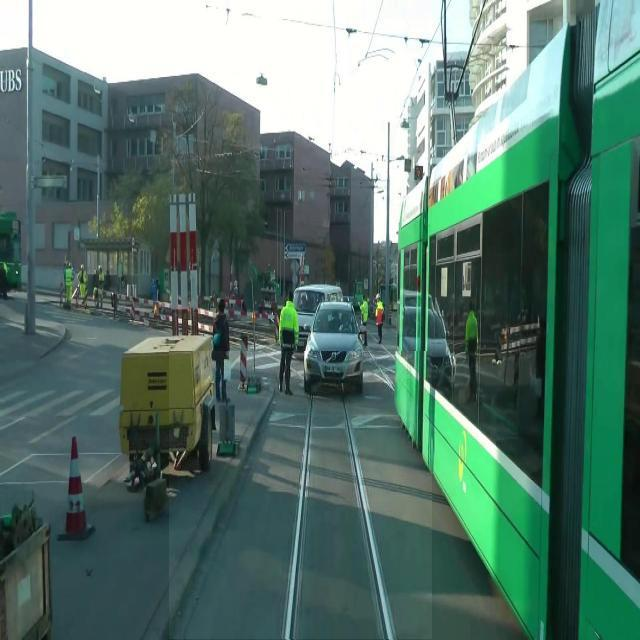rail: (171, 353, 433, 640)
